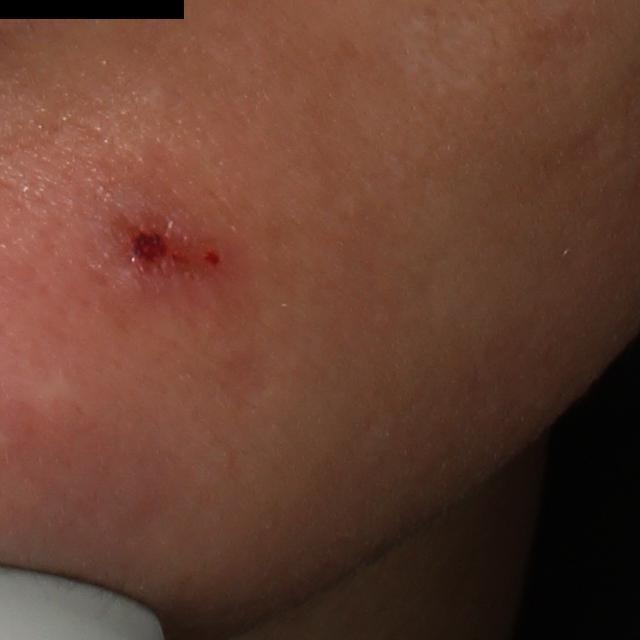papule: (104, 195, 217, 296)
